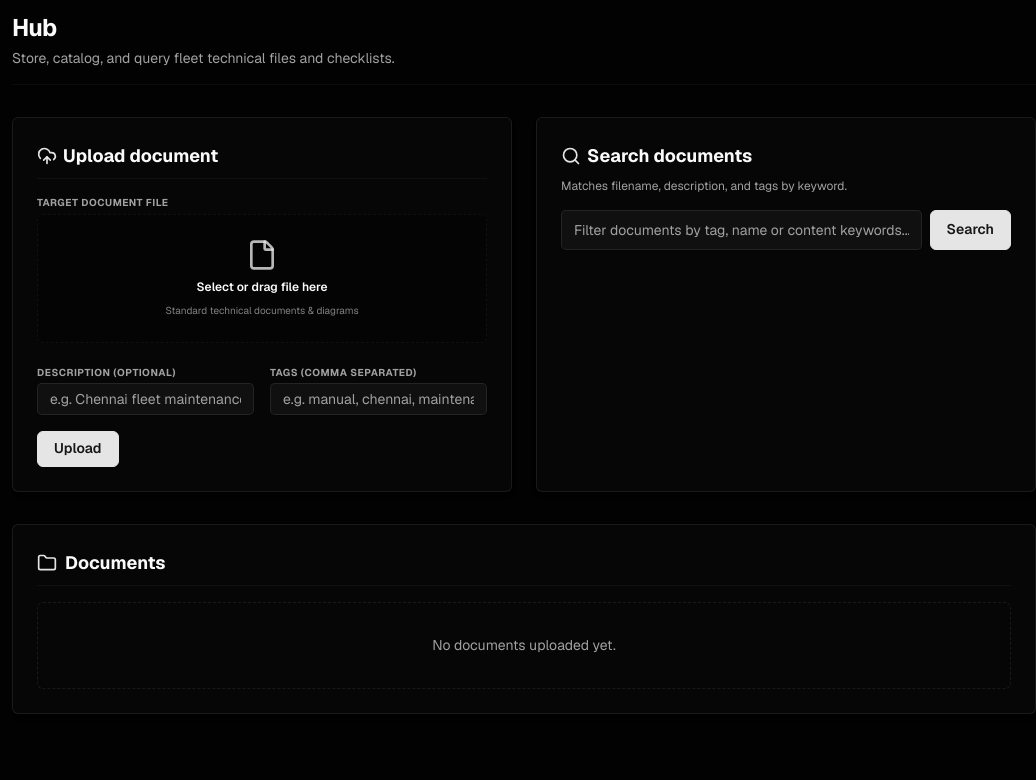
Test case: HubView › searches documents via the gateway and renders the keyword-match results
Check: the text "No documents uploaded yet." is shown, box [37,602,1011,688]
Type "checklist" into the field named "Search documents" at {"x": 741, "y": 230}, box [561,210,922,250]
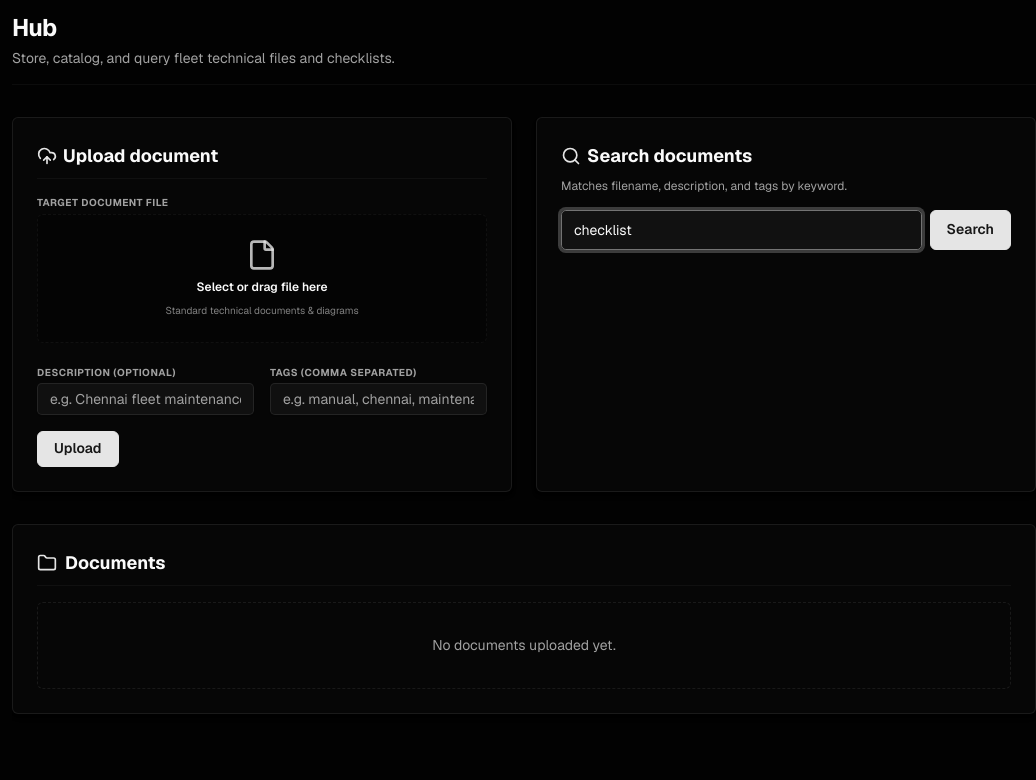
Click the button "Search" at {"x": 970, "y": 230}, box [930,210,1011,250]
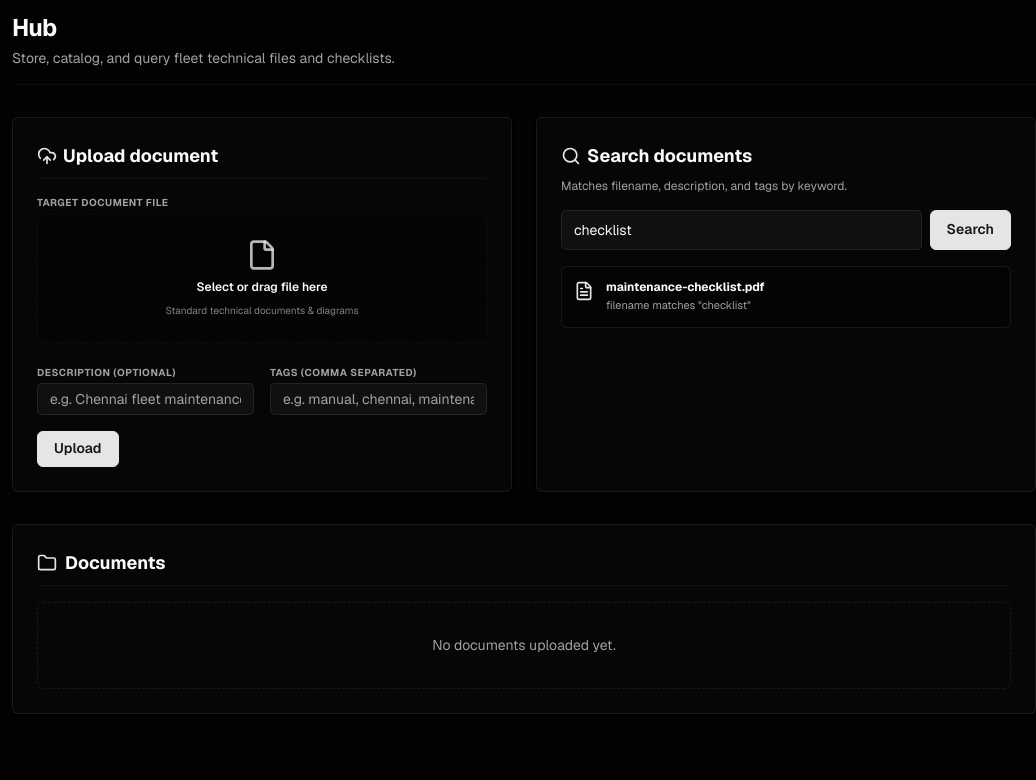
Check: the text "Matches filename, description, and tags by keyword." is shown, box [561,178,847,194]
Check: the text "filename matches \"checklist\"" is shown, box [606,298,751,312]
